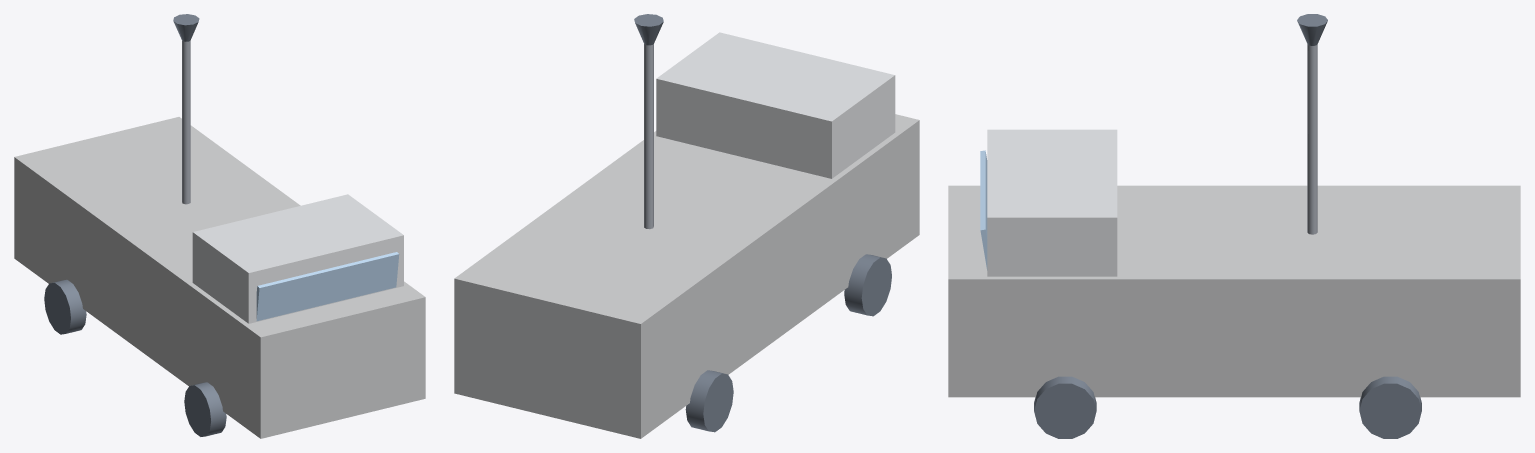
The model's file is van_command.glb.
3 views of the same model, side by side, from view 1: azimuth 30°, elevation 25°; view 2: azimuth 150°, elevation 25°; view 3: azimuth 270°, elevation 25° (orthographic). The views are drawn at different scales.
Size of the model in its own units: 0.98 by 1.55 by 2.2.
